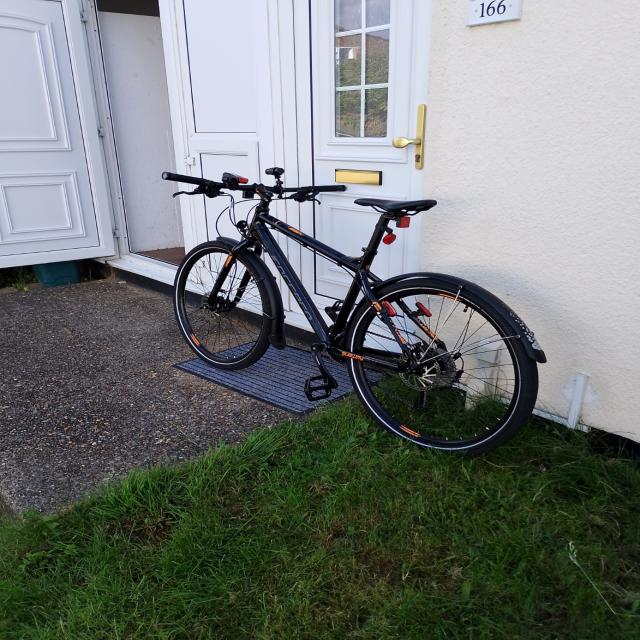bicycle: (162, 166, 546, 456)
